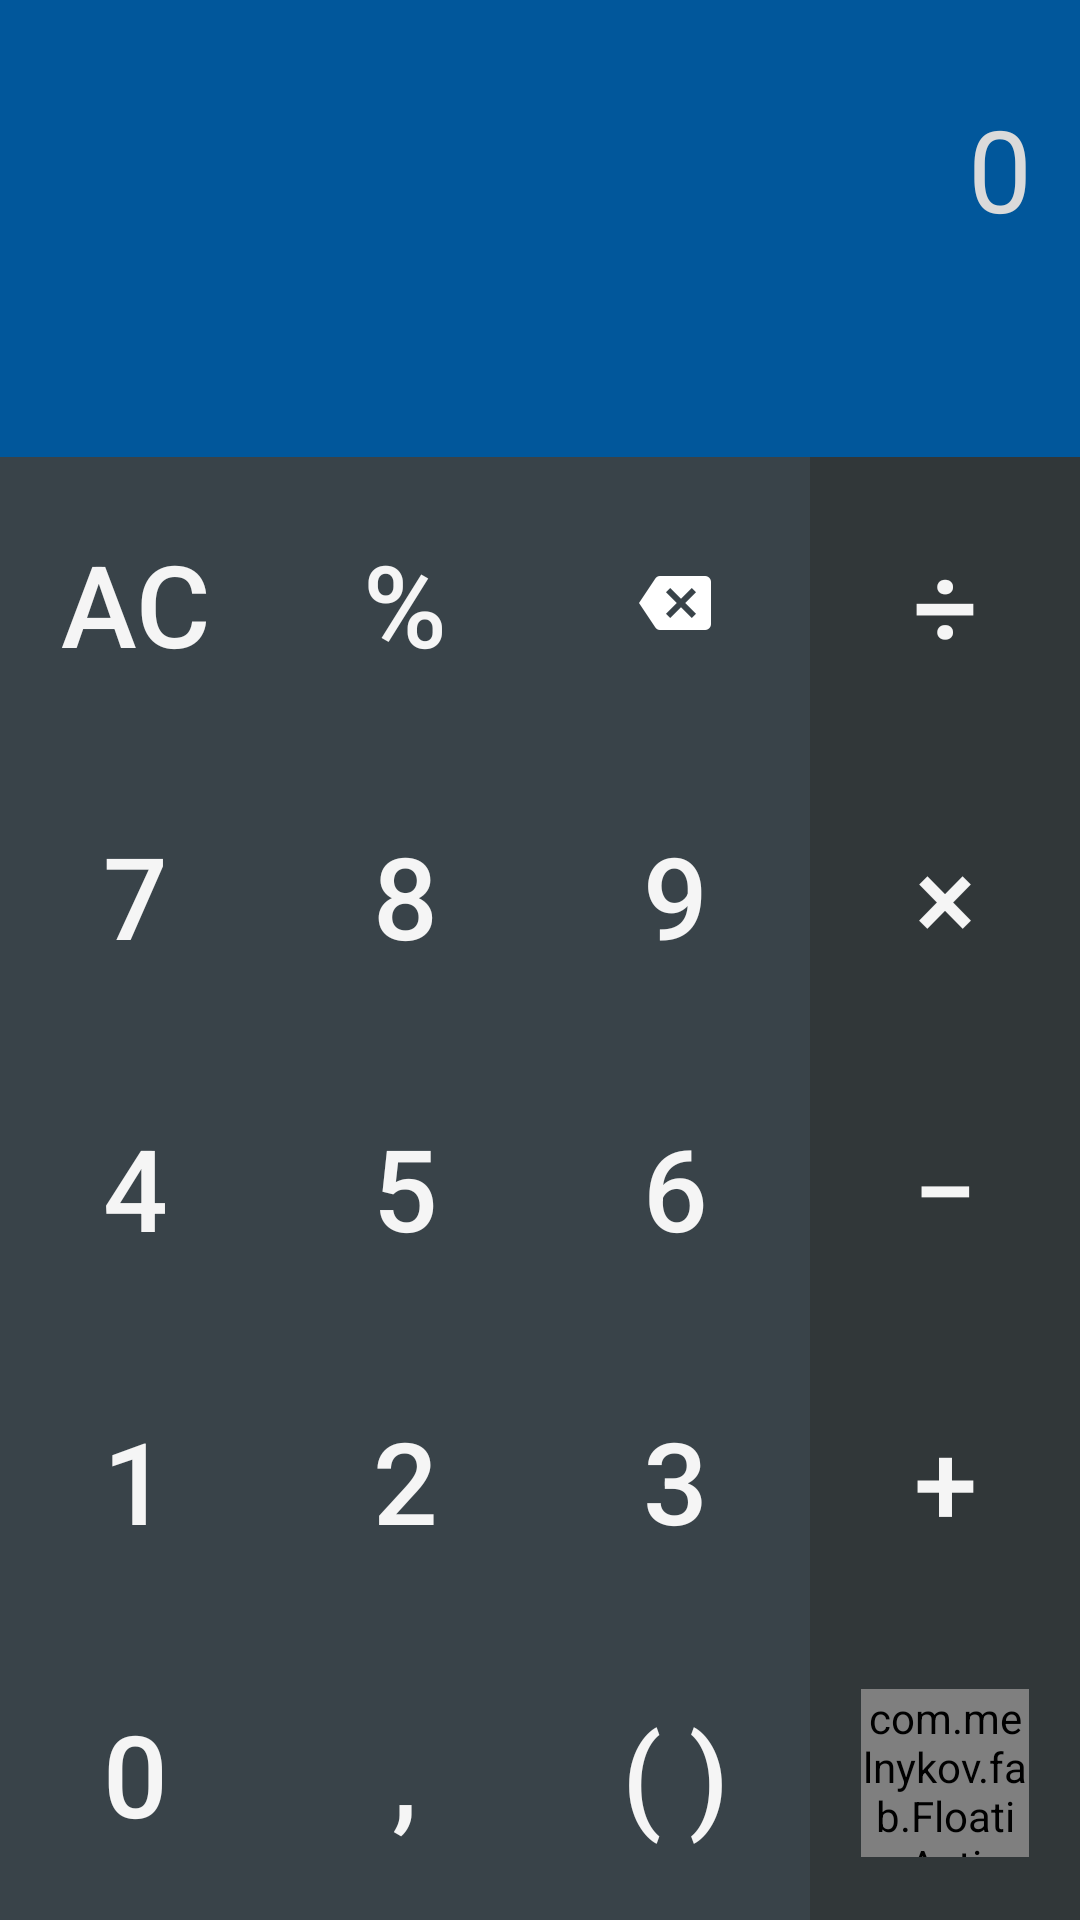

Icon click points for this 1080x1920 phone screenshot, format point (x, y):
backspace: point (675, 603)
